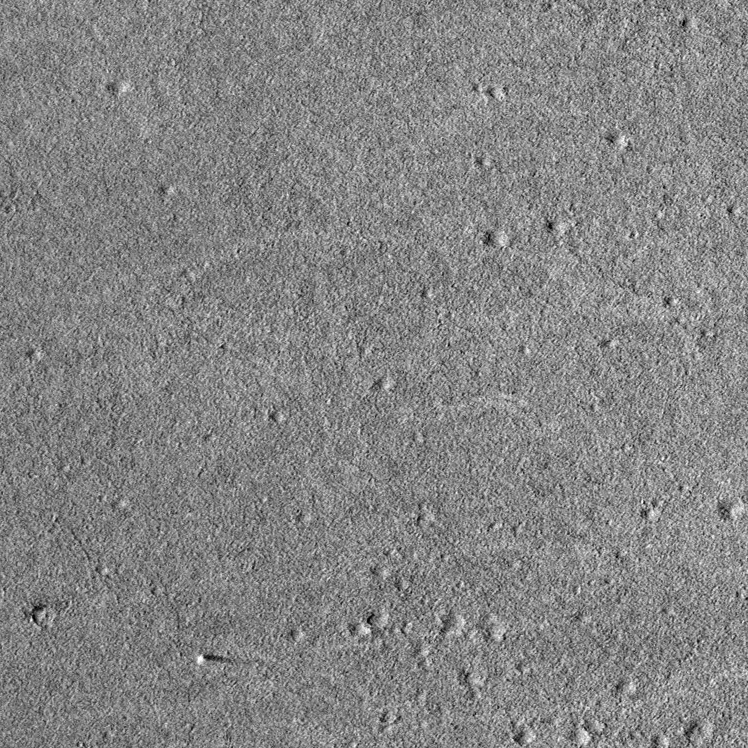dust_devil: (195, 653, 233, 667)
